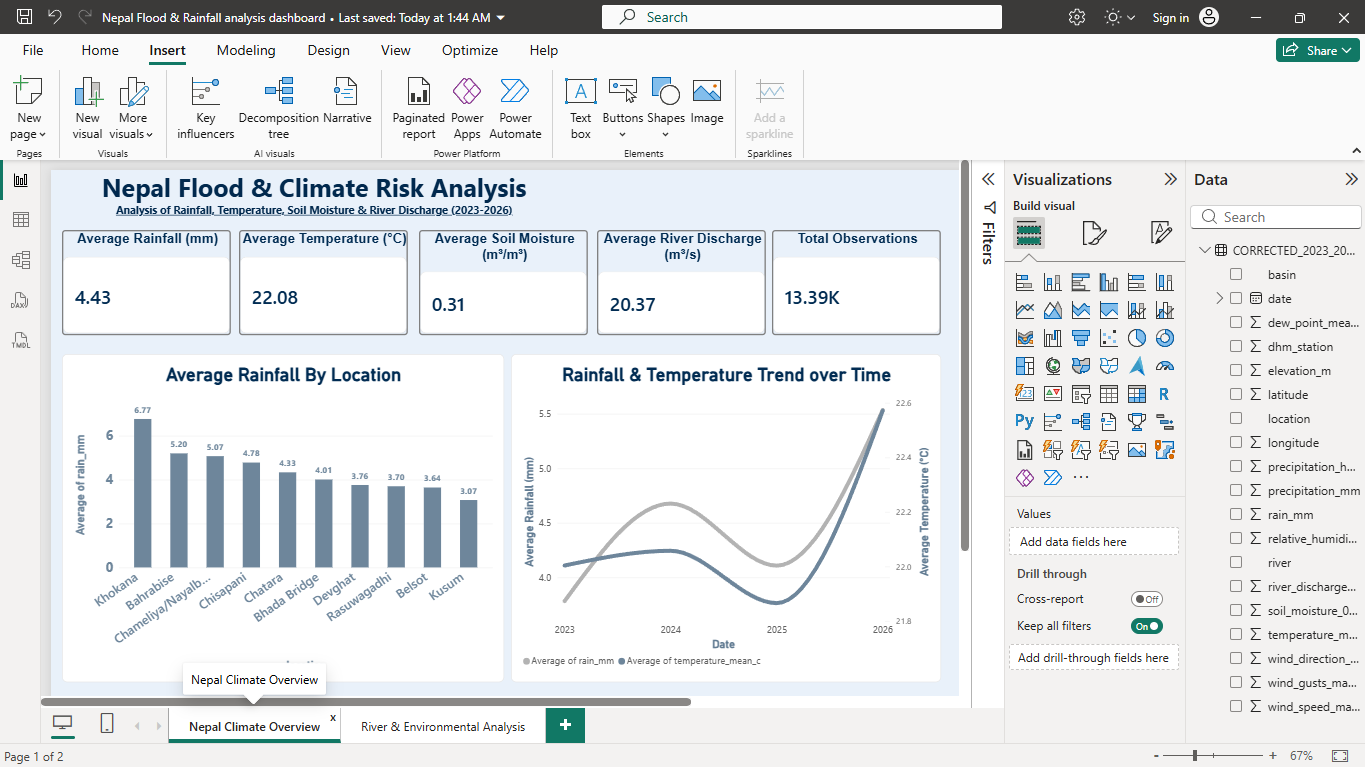

The page's visual inventory and layout, read from the dashboard file:
{"tool":"powerbi","page":{"name":"Nepal Climate Overview","canvas":[1920,1080],"ordinal":0},"visuals":[{"type":"cardVisual","title":"Average Rainfall (mm)","fields":{"Data":["Avg(CORRECTED_2023_2026_NEPAL_FLOOD_WEATHER_KAGGLE.rain_mm)"]},"box":[16.4,89.6,252.2,156.7],"z":0},{"type":"textbox","box":[0,0,785.7,157.1],"z":1000},{"type":"cardVisual","title":"Average Temperature (°C)","fields":{"Data":["Avg(CORRECTED_2023_2026_NEPAL_FLOOD_WEATHER_KAGGLE.temperature_mean_c)"]},"box":[280.6,89.6,252.2,156.7],"z":2000},{"type":"cardVisual","title":"Average Soil Moisture (m³/m³)","fields":{"Data":["Avg(CORRECTED_2023_2026_NEPAL_FLOOD_WEATHER_KAGGLE.soil_moisture_0_100cm_m3m3)"]},"box":[549.3,89.6,252.2,156.7],"z":3000},{"type":"cardVisual","title":"Average River Discharge (m³/s)","fields":{"Data":["Avg(CORRECTED_2023_2026_NEPAL_FLOOD_WEATHER_KAGGLE.river_discharge_m3s)"]},"box":[814.9,89.6,252.2,156.7],"z":4000},{"type":"cardVisual","title":"Total Observations","fields":{"Data":["CountNonNull(CORRECTED_2023_2026_NEPAL_FLOOD_WEATHER_KAGGLE.date)"]},"box":[1076.1,89.6,252.2,156.7],"z":5000},{"type":"clusteredColumnChart","title":"Average Rainfall By Location","fields":{"Category":["CORRECTED_2023_2026_NEPAL_FLOOD_WEATHER_KAGGLE.location"],"Y":["Avg(CORRECTED_2023_2026_NEPAL_FLOOD_WEATHER_KAGGLE.rain_mm)"]},"box":[16.4,274.6,659.7,489.6],"z":6000},{"type":"lineChart","title":"Rainfall & Temperature Trend over Time","fields":{"Category":["CORRECTED_2023_2026_NEPAL_FLOOD_WEATHER_KAGGLE.date.Variation.Date Hierarchy.Year","CORRECTED_2023_2026_NEPAL_FLOOD_WEATHER_KAGGLE.date.Variation.Date Hierarchy.Month"],"Y":["Avg(CORRECTED_2023_2026_NEPAL_FLOOD_WEATHER_KAGGLE.rain_mm)"],"Y2":["Avg(CORRECTED_2023_2026_NEPAL_FLOOD_WEATHER_KAGGLE.temperature_mean_c)"]},"box":[686.6,274.6,641.8,489.6],"z":7000}]}

Visuals, with their boxes on the page's 1920x1080 design canvas (x1, y1, x2, y2). These are canvas units, not pixel positions in the 1365x767 screenshot, which may show the page scaled, cropped or inside an application window:
"Average Rainfall (mm)" cardVisual: 16/90/269/246
textbox: 0/0/786/157
"Average Temperature (°C)" cardVisual: 281/90/533/246
"Average Soil Moisture (m³/m³)" cardVisual: 549/90/802/246
"Average River Discharge (m³/s)" cardVisual: 815/90/1067/246
"Total Observations" cardVisual: 1076/90/1328/246
"Average Rainfall By Location" clusteredColumnChart: 16/275/676/764
"Rainfall & Temperature Trend over Time" lineChart: 687/275/1328/764
